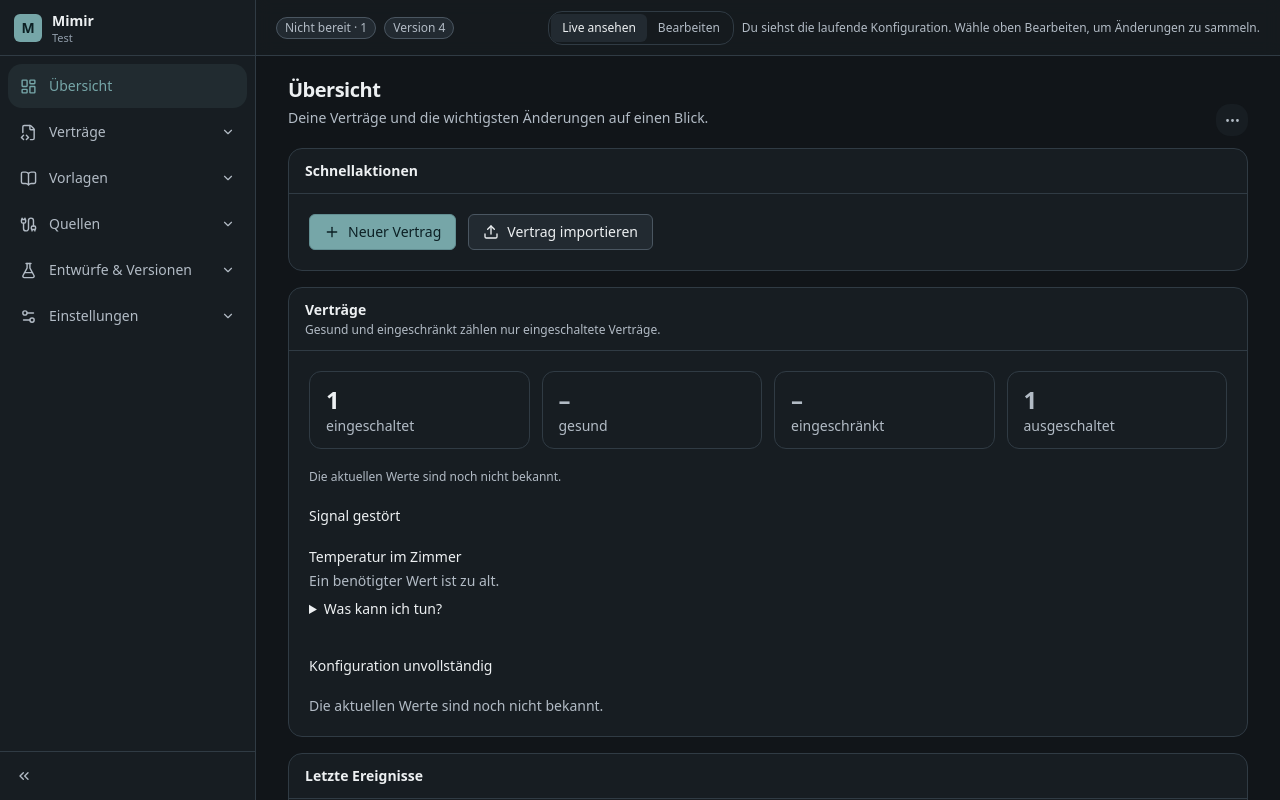
Test case: explains a problem without raw reason codes and opens new contract creation in place
The image size is (1280, 800).
expect the text "Ein benötigter Wert ist zu alt." is shown: met, box x1=309 y1=571 x2=499 y2=590
Click the heading "Was kann ich tun?": (383,608) x1=324 y1=599 x2=442 y2=618
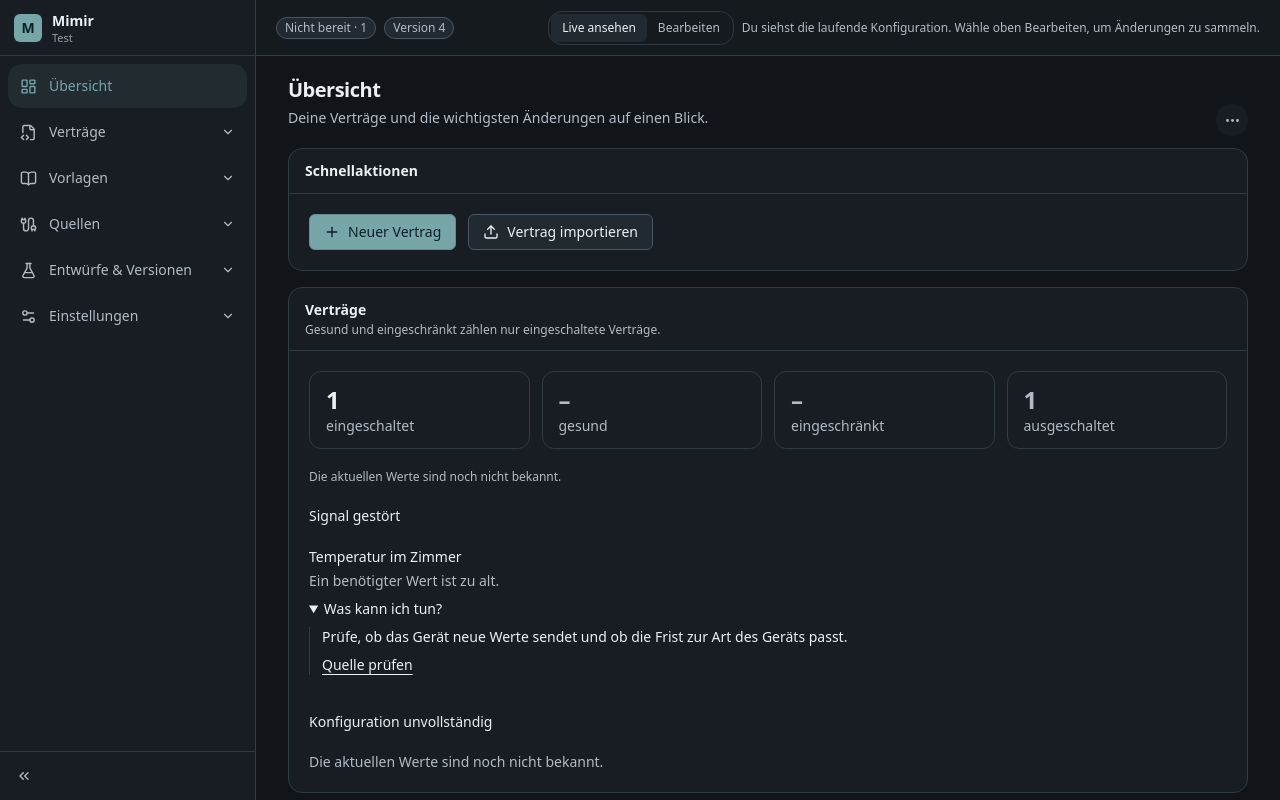
Click the button "Neuer Vertrag": (383,232) x1=309 y1=214 x2=456 y2=250
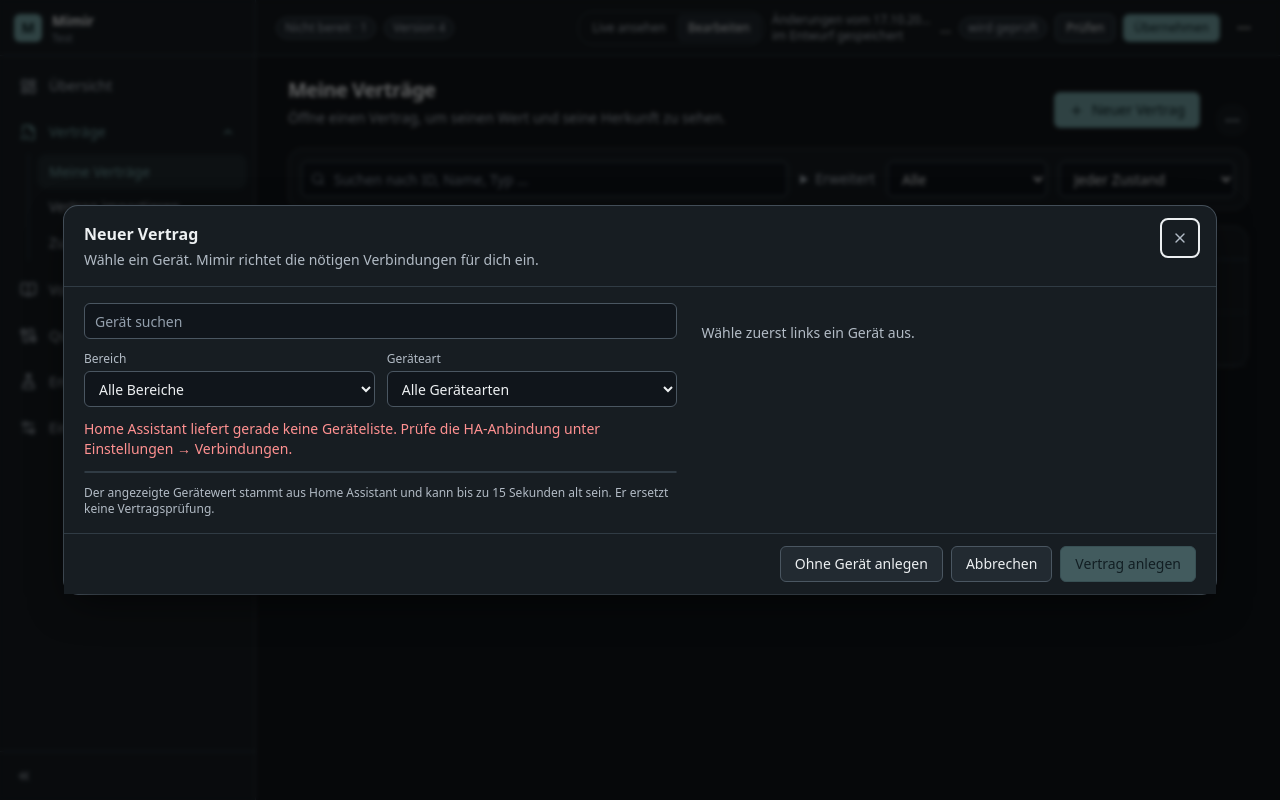
expect the dialog "Neuer Vertrag" is shown: met, box x1=64 y1=206 x2=1216 y2=594
